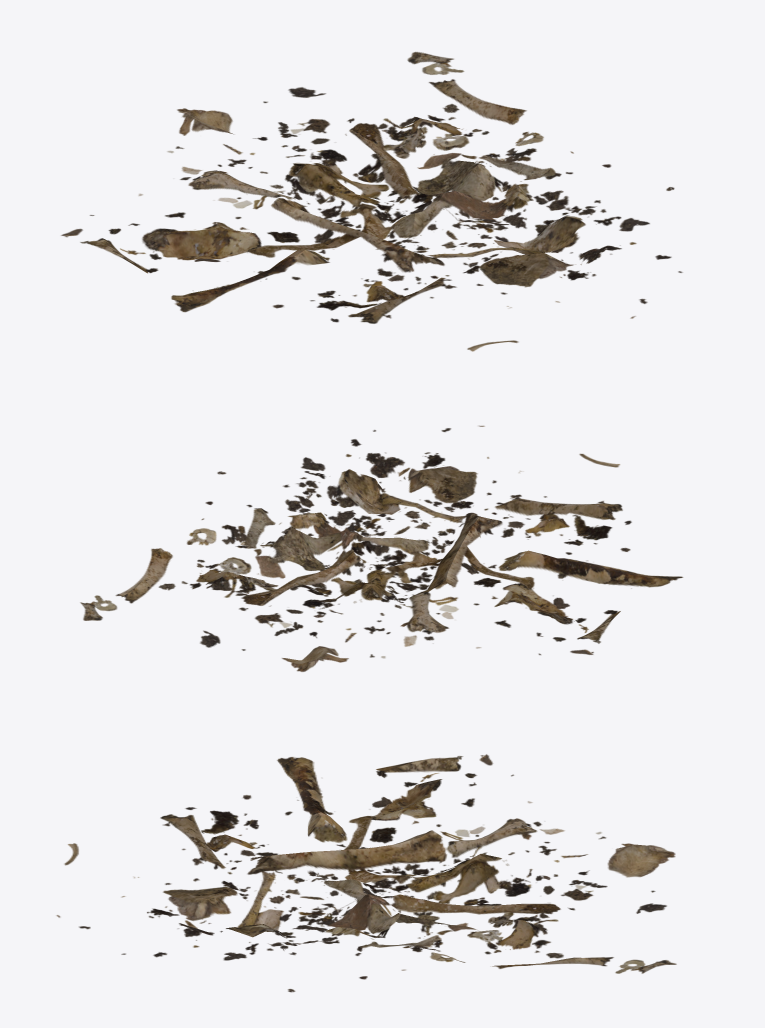
File: SM_Laji03.glb
3 views of the same model, one above another, from view 1: azimuth 30°, elevation 25°; view 2: azimuth 150°, elevation 25°; view 3: azimuth 270°, elevation 25° (orthographic). The views are drawn at different scales.
Visible parts, largest first — view 1: SM_LaJi03; view 2: SM_LaJi03; view 3: SM_LaJi03.
Boxes of the visible parts, box(x1,y1,x2,y2) form: SM_LaJi03: box(61, 52, 682, 351); SM_LaJi03: box(80, 425, 683, 671); SM_LaJi03: box(56, 754, 676, 992).
Size of the model in its own units: 1.04 by 0.0509 by 1.14.
1 material, 1 textured.
